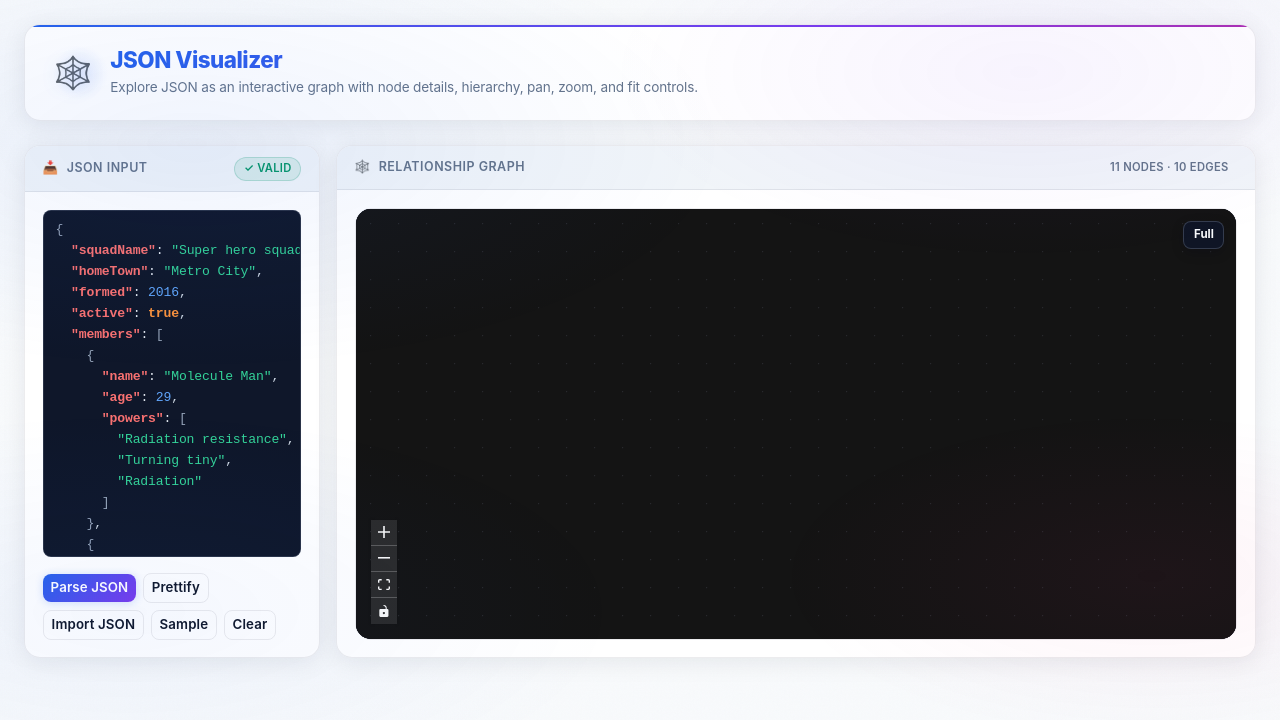
Test: JsonVisualizer component › Clear functionality › clears textarea, graph, and errors
The width and height of the screenshot is (1280, 720).
Click the button "Clear": point(250, 625) [224, 610, 276, 640]
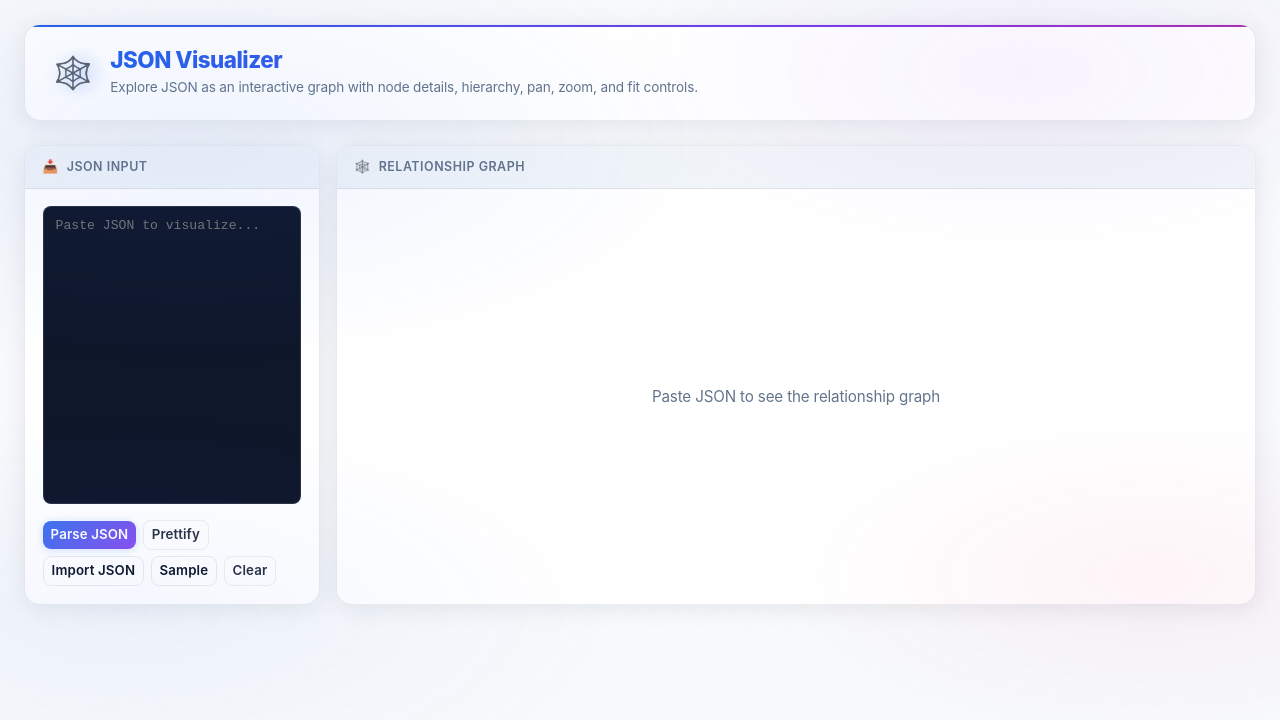
Result: the text box with placeholder "Paste JSON to visualize..." is empty at [43, 206, 301, 504]
